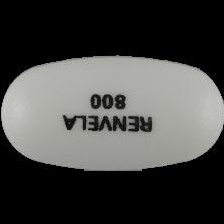68151-5113: (0, 0, 224, 224)
